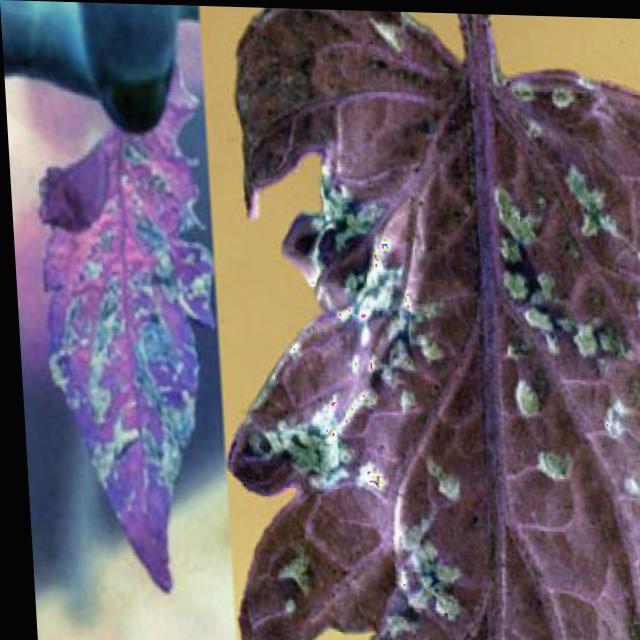Tomato late blight leaf: (201, 6, 639, 639), (20, 29, 225, 602)
